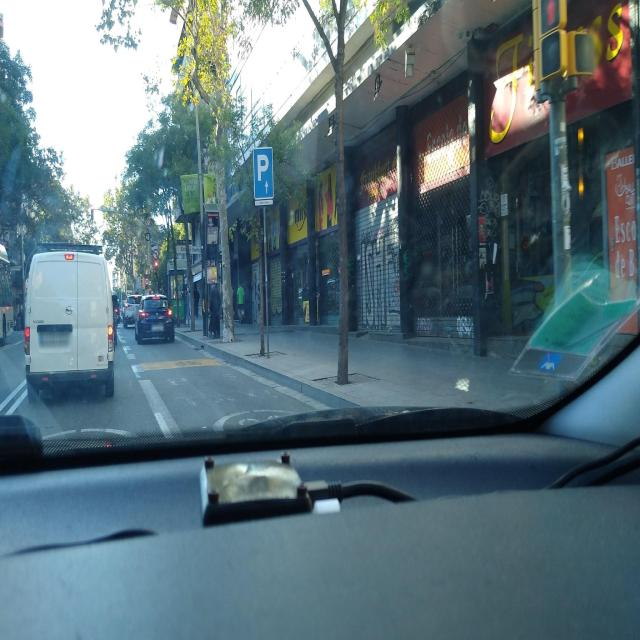car: (23, 240, 116, 402), (134, 294, 176, 345), (122, 293, 142, 329)
